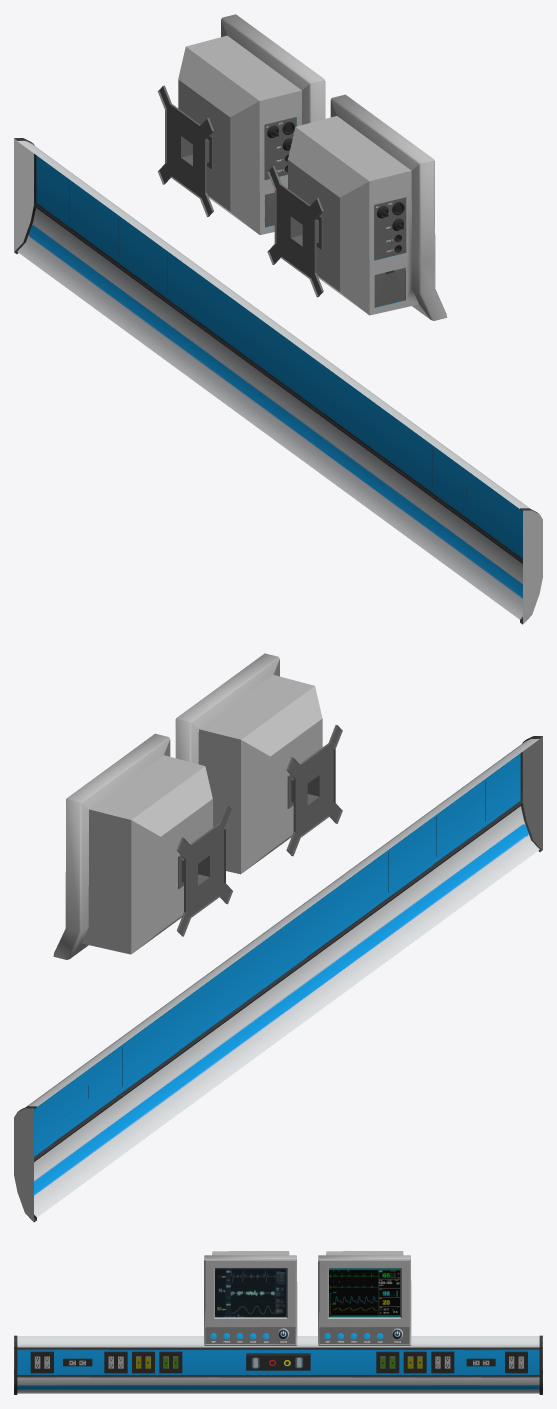
Rendered from ECG Machine.fbx.
3 renders of one model, top to bottom at view 1: azimuth 30°, elevation 25°; view 2: azimuth 150°, elevation 25°; view 3: azimuth 270°, elevation 25°, orthographic. The views are drawn at different scales.
Parts seen in each view (by area): view 1: ECG_Machine; view 2: ECG_Machine; view 3: ECG_Machine.
Part boxes in pixels (box(x1,y1,x2,y2)): ECG_Machine: box(14, 14, 542, 624); ECG_Machine: box(14, 653, 542, 1222); ECG_Machine: box(14, 1251, 542, 1394).
Size of the model in its own units: 33.68 by 91.19 by 273.
